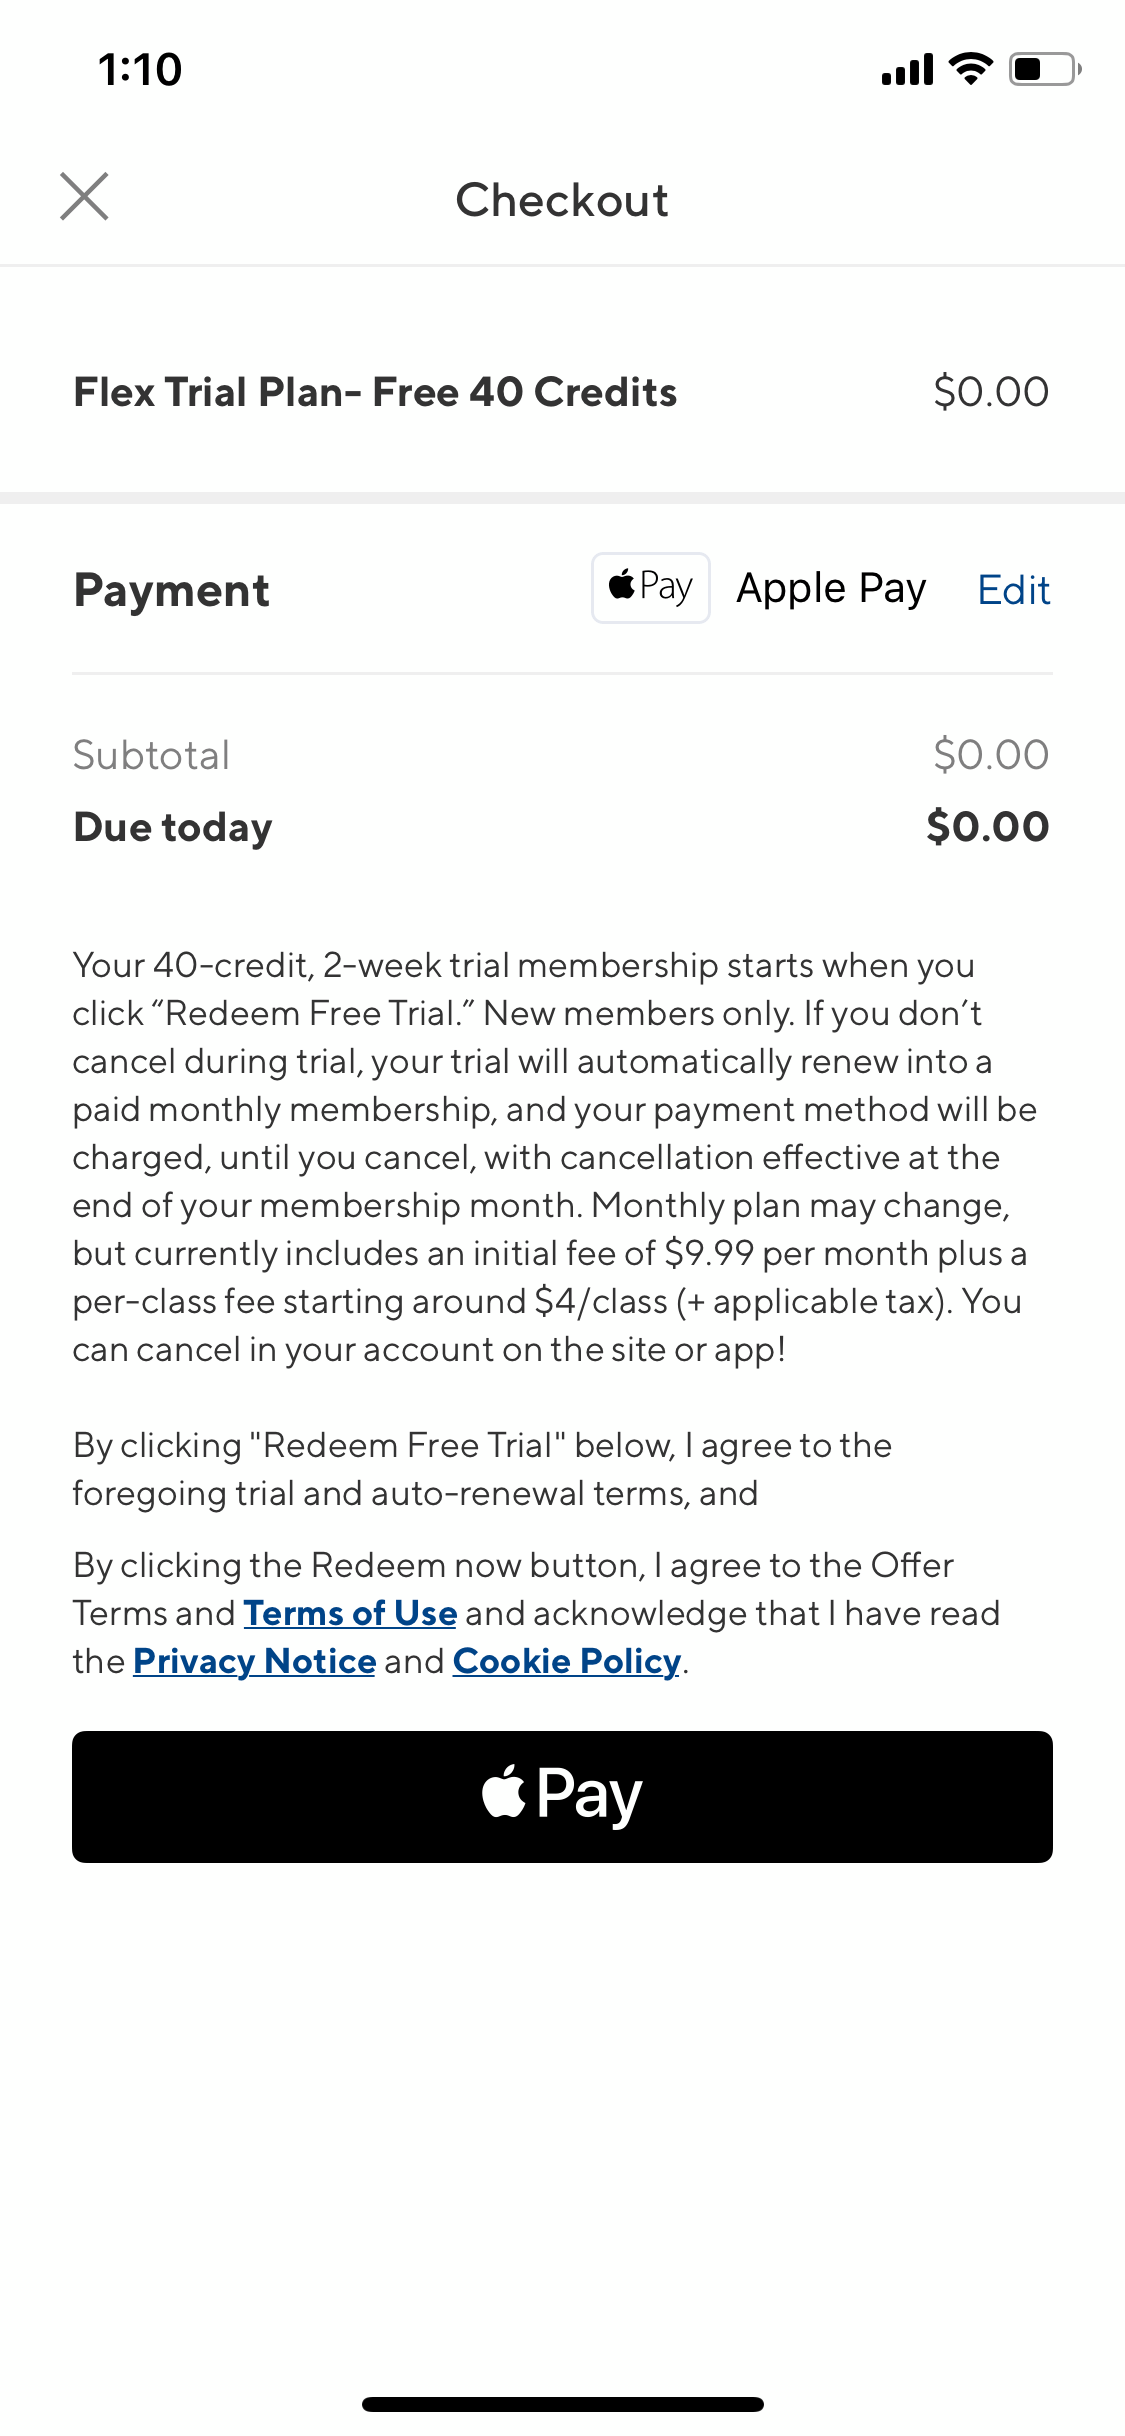Buttons: (57, 1717, 1066, 1883), (949, 534, 1097, 631), (26, 130, 146, 245)
